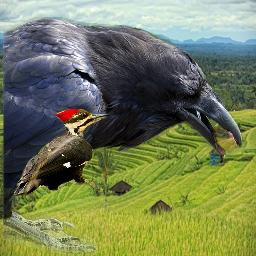Crow: (3, 17, 244, 255)
Woodpecker: (14, 109, 113, 196)
